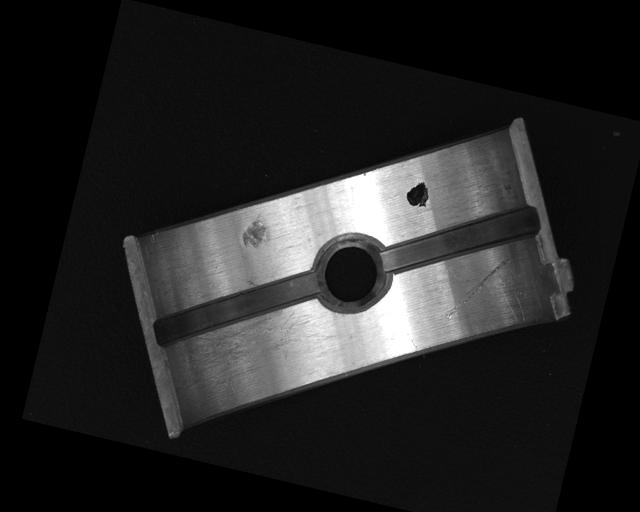blot: (403, 178, 433, 210)
bruise: (239, 210, 272, 252)
gap: (150, 237, 322, 379), (378, 174, 542, 302)
hole: (309, 227, 394, 321)
nick: (443, 246, 508, 331)
scratch: (173, 288, 310, 409)
